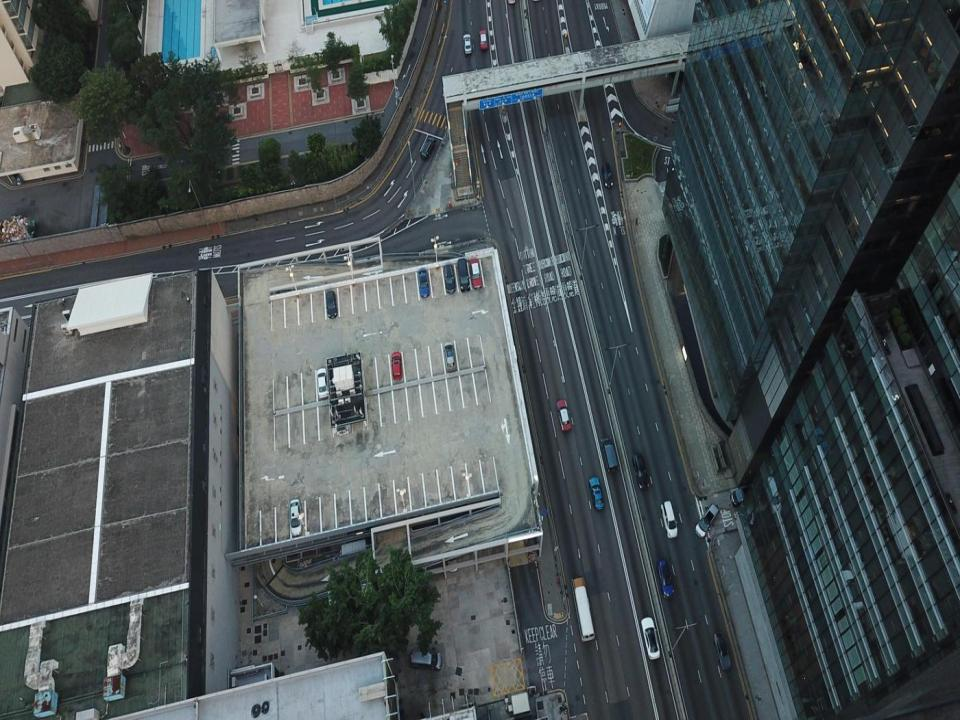bus: (570, 576, 594, 642)
car: (640, 616, 660, 660), (695, 504, 718, 538), (730, 484, 759, 507), (600, 436, 618, 473), (632, 453, 650, 489), (658, 559, 674, 599), (714, 631, 730, 669), (556, 398, 572, 430), (589, 476, 604, 510), (289, 499, 303, 535), (284, 528, 298, 557), (420, 135, 436, 159), (470, 258, 482, 289), (316, 368, 328, 398), (444, 264, 456, 292), (444, 341, 455, 371), (446, 545, 458, 572), (326, 290, 337, 319), (391, 352, 402, 380), (418, 268, 428, 297), (602, 164, 613, 188), (462, 33, 472, 54), (479, 30, 488, 50)
van: (661, 500, 678, 538), (410, 650, 442, 670), (458, 258, 470, 292)
